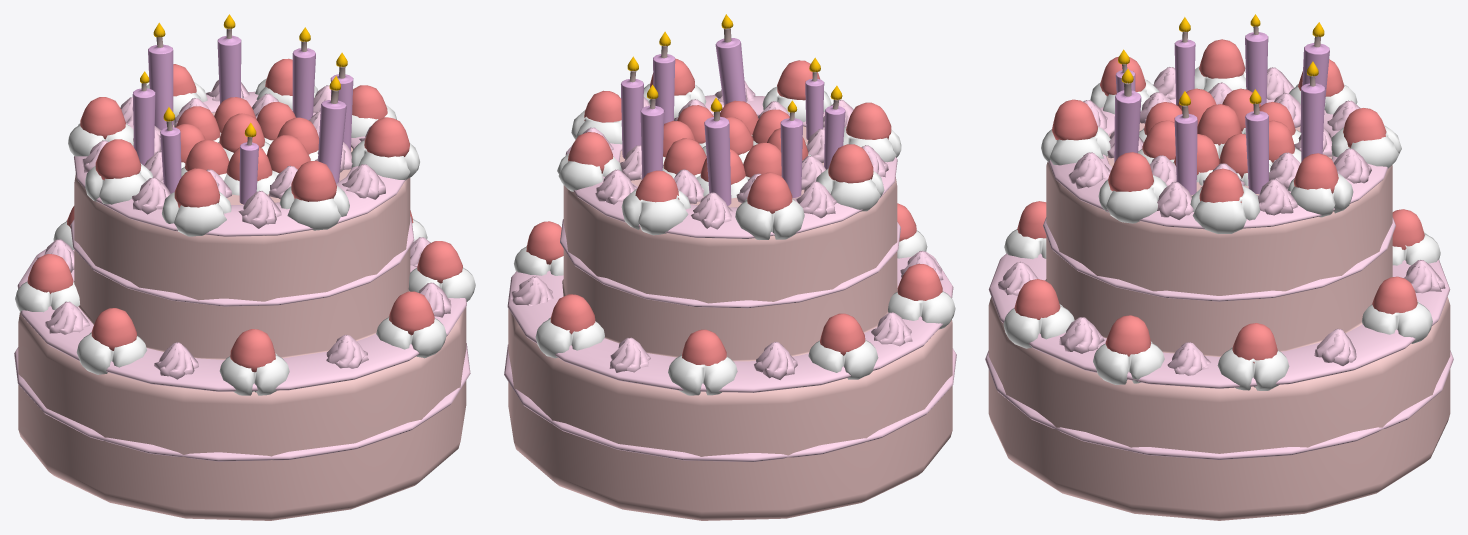
Rendered from berry-dream-kitchen_cake2.glb.
3 views of the same model, side by side, from view 1: azimuth 30°, elevation 25°; view 2: azimuth 150°, elevation 25°; view 3: azimuth 270°, elevation 25° (orthographic). The views are drawn at different scales.
Visible parts, largest first — view 1: pCylinder67, pTorus5, pTorus6, pTorus9, pTorus8, pCylinder76, pCylinder83, pCylinder99, pCylinder75, pCylinder95, pCylinder84, pCylinder82 (+41 smaller); view 2: pCylinder67, pTorus5, pTorus6, pTorus9, pTorus8, pCylinder71, pCylinder95, pCylinder70, pCylinder78, pCylinder85, pCylinder99, pCylinder79 (+46 smaller); view 3: pCylinder67, pTorus5, pTorus9, pTorus6, pTorus8, pCylinder73, pCylinder80, pCylinder81, pCylinder74, pCylinder97, pCylinder82, pCylinder79 (+50 smaller).
Part boxes in pixels (bbox=[...]): pCylinder67: bbox=[18, 112, 466, 520]; pTorus5: bbox=[17, 249, 466, 391]; pTorus6: bbox=[74, 91, 405, 236]; pTorus9: bbox=[14, 343, 470, 461]; pTorus8: bbox=[70, 216, 414, 306]; pCylinder76: bbox=[162, 191, 231, 236]; pCylinder83: bbox=[219, 353, 289, 395]; pCylinder99: bbox=[318, 90, 346, 183]; pCylinder75: bbox=[279, 186, 349, 230]; pCylinder95: bbox=[148, 37, 173, 130]; pCylinder84: bbox=[76, 332, 146, 374]; pCylinder82: bbox=[376, 316, 446, 358]; pCylinder67: bbox=[508, 115, 952, 520]; pTorus5: bbox=[507, 251, 953, 392]; pTorus6: bbox=[565, 95, 897, 238]; pTorus9: bbox=[504, 344, 956, 461]; pTorus8: bbox=[560, 219, 900, 308]; pCylinder71: bbox=[621, 189, 690, 235]; pCylinder95: bbox=[704, 111, 731, 205]; pCylinder70: bbox=[735, 199, 804, 239]; pCylinder78: bbox=[668, 354, 737, 395]; pCylinder85: bbox=[808, 339, 878, 379]; pCylinder99: bbox=[715, 28, 746, 105]; pCylinder79: bbox=[535, 317, 604, 358]; pCylinder67: bbox=[988, 122, 1450, 520]; pTorus5: bbox=[988, 253, 1450, 388]; pTorus9: bbox=[985, 350, 1453, 459]; pTorus6: bbox=[1048, 95, 1388, 229]; pTorus8: bbox=[1043, 217, 1395, 301]; pCylinder73: bbox=[1190, 185, 1260, 233]; pCylinder80: bbox=[1217, 347, 1289, 390]; pCylinder81: bbox=[1093, 341, 1164, 384]; pCylinder74: bbox=[1098, 175, 1166, 223]; pCylinder97: bbox=[1245, 103, 1268, 193]; pCylinder82: bbox=[1003, 304, 1074, 348]; pCylinder79: bbox=[1362, 301, 1432, 343].
Bounding box in the file's own units: 0.0609 × 0.056 × 0.0609.
